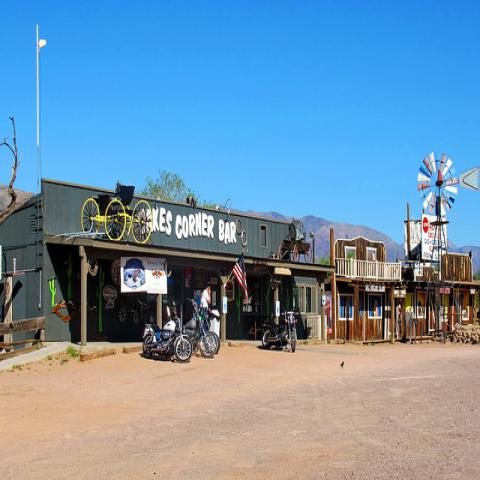motorcycle: (142, 298, 219, 363), (262, 309, 297, 351)
